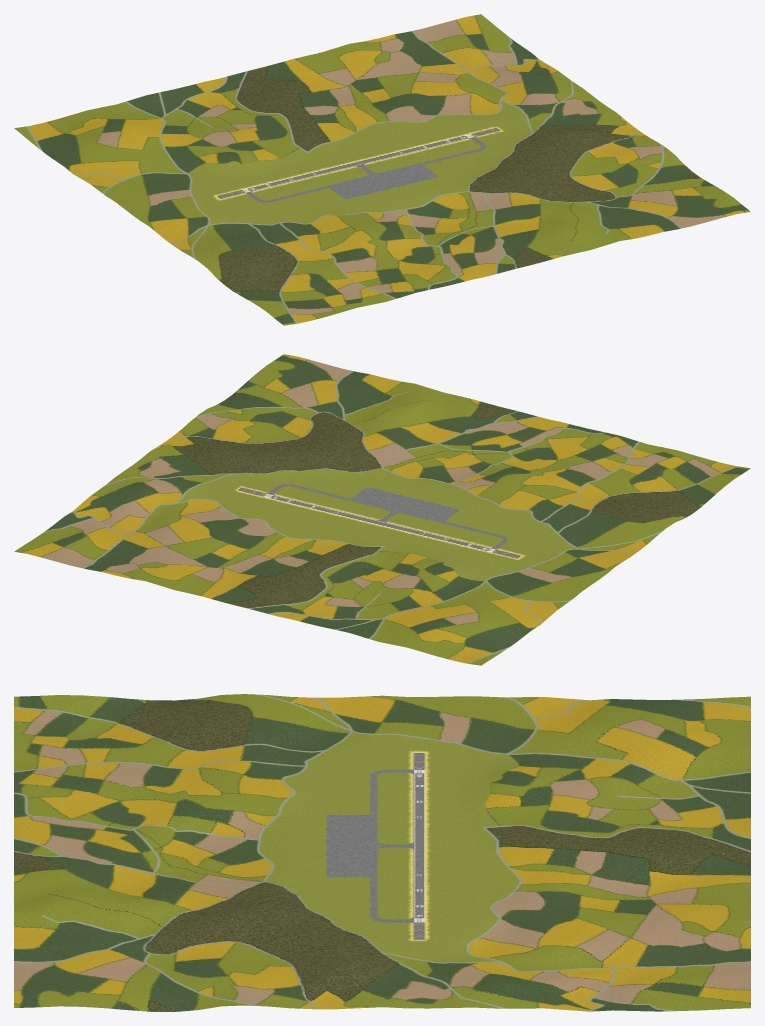
The picture shows the model from 3 angles, top to bottom: view 1: azimuth 30°, elevation 25°; view 2: azimuth 150°, elevation 25°; view 3: azimuth 270°, elevation 25°; orthographic projection. The views are drawn at different scales.
Visible parts, largest first — view 1: tile-e; view 2: tile-e; view 3: tile-e.
Boxes of the visible parts, x1=… form: tile-e: x1=14, y1=14, x2=750, y2=325; tile-e: x1=14, y1=354, x2=750, y2=665; tile-e: x1=14, y1=694, x2=750, y2=1011.
Size of the model in its own units: 3000 by 52.4 by 3000.
Materials: 1 (1 with a texture image).
